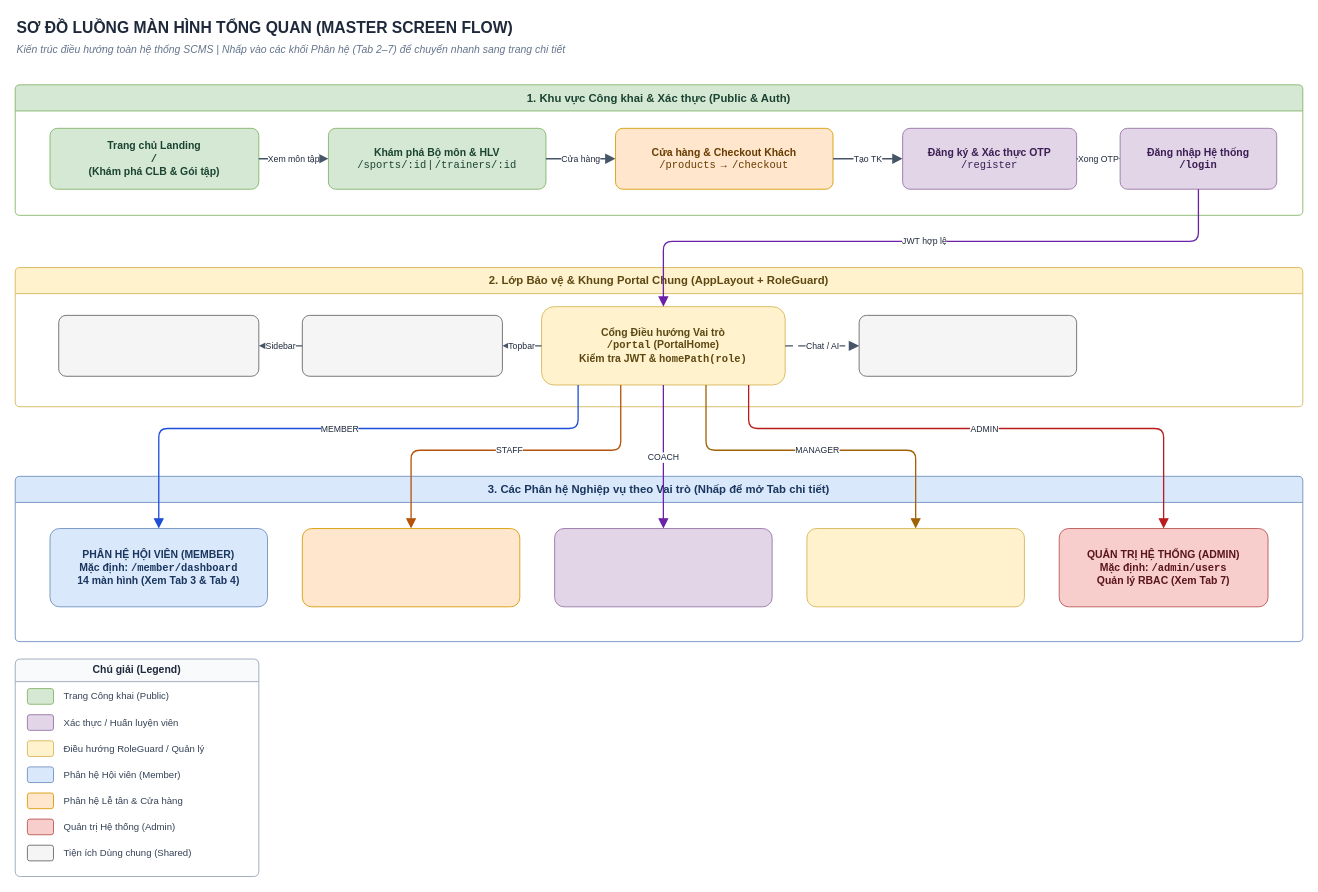
The diagram is 1318 pixels wide and 892 high, and some of its shapes have lost their labels. The shapes that lost their labels are listed below. From the top down, each one's centre as x and y in pixels, then its label:
the point at 158,345: Hồ sơ & Chỉ số Sức khỏe /member/profile (Dùng chung 5 vai trò)
the point at 401,345: Hộp thư Thông báo /member/notifications (Member, Staff, Coach, Manager)
the point at 967,345: Tin nhắn & Trợ lý AI Chat /messages + ChatWidget (Member, Staff, Coach)
the point at 410,567: PHÂN HỆ LỄ TÂN (STAFF) Mặc định: /staff/reception 7 màn hình (Xem Tab 5)
the point at 663,567: PHÂN HỆ HLV (COACH) Mặc định: /staff/attendance 4 màn hình + AI (Xem Tab 6)
the point at 915,567: QUẢN LÝ (CENTER MANAGER) Mặc định: /manager/reports 12 màn hình (Xem Tab 7)
